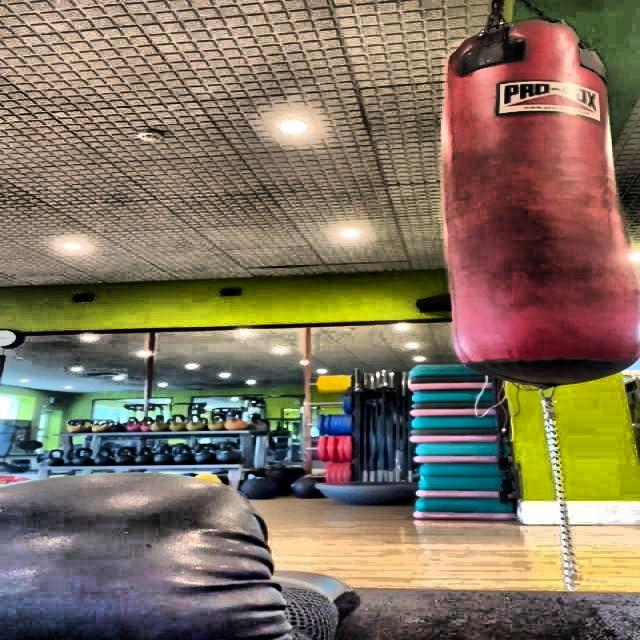boxing-bag: (440, 0, 640, 382)
